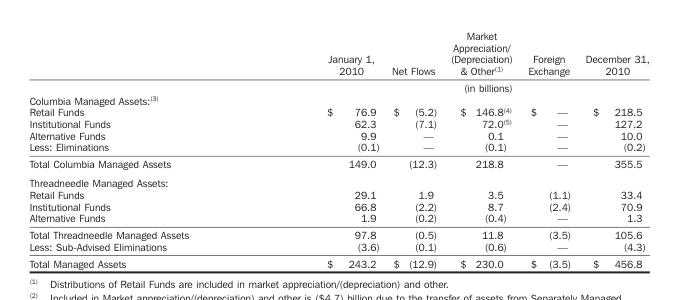table: (28, 29, 648, 269)
table column: (28, 29, 257, 269), (257, 29, 384, 269), (443, 29, 519, 269), (577, 29, 648, 269), (384, 29, 443, 269), (519, 29, 577, 269)
table column header: (28, 29, 648, 93)
table projected row header: (28, 173, 648, 188), (28, 93, 648, 105)
table row: (28, 29, 648, 78), (28, 154, 648, 173), (28, 78, 648, 93), (28, 173, 648, 188), (28, 225, 648, 240), (28, 254, 648, 269), (28, 140, 648, 154), (28, 211, 648, 225), (28, 240, 648, 254), (28, 93, 648, 105), (28, 105, 648, 117), (28, 117, 648, 129), (28, 188, 648, 200), (28, 129, 648, 140), (28, 200, 648, 211)
table spanning cell: (257, 78, 648, 93)
